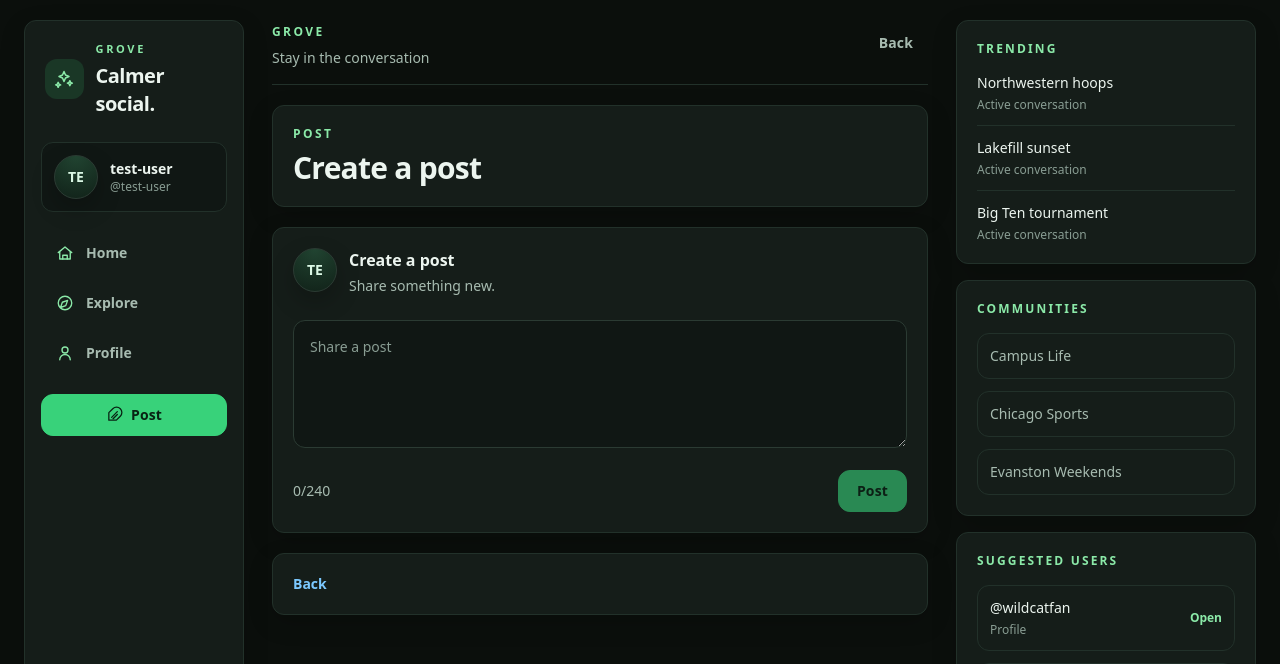
Test case: PostTweetPage › posts and routes to home on success
Type "hello world" into the text box named "post text". click: (600, 384)
box: [293, 320, 907, 448]
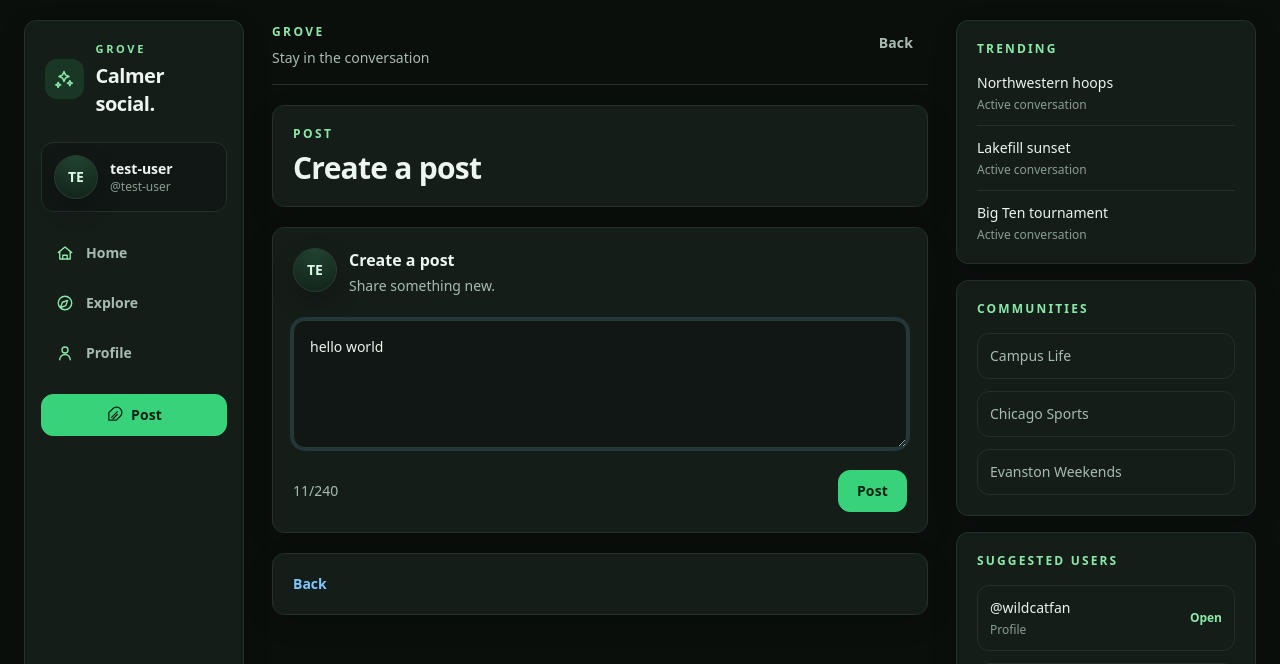
Click the button "Post" in the row of "240". click: (872, 491)
box: [838, 470, 907, 512]
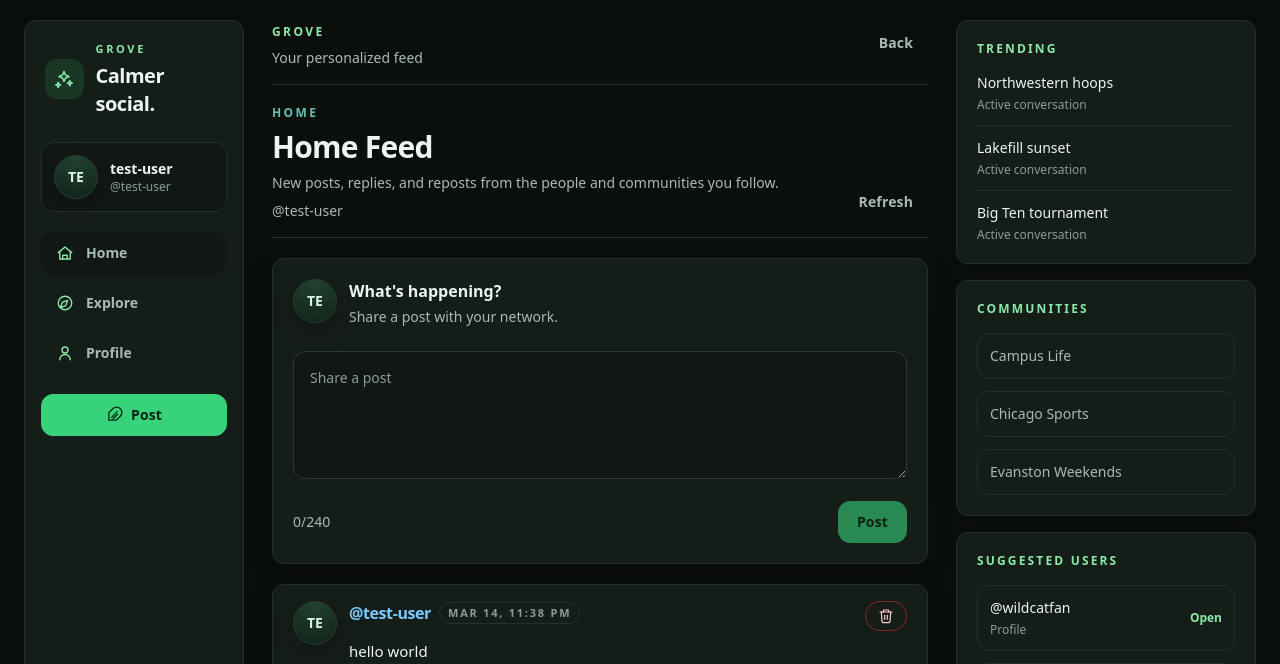
Result: the heading "Home Feed" is shown at [272, 126, 433, 167]
